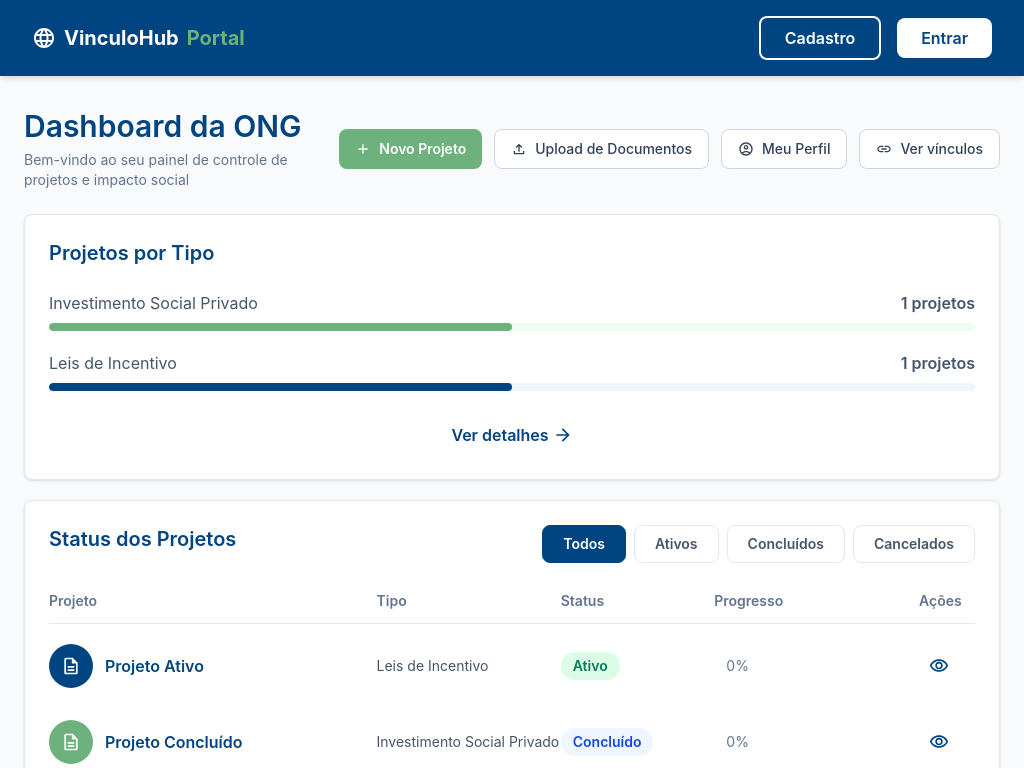
Test: RoleHomePage - dashboard da ONG › filtra projetos pelos status reais da aplicação
Check: the text "Projeto Ativo" is shown, box [105,654,204,676]
Click the button "Concluídos" at (786, 544), box [727,524,845,562]
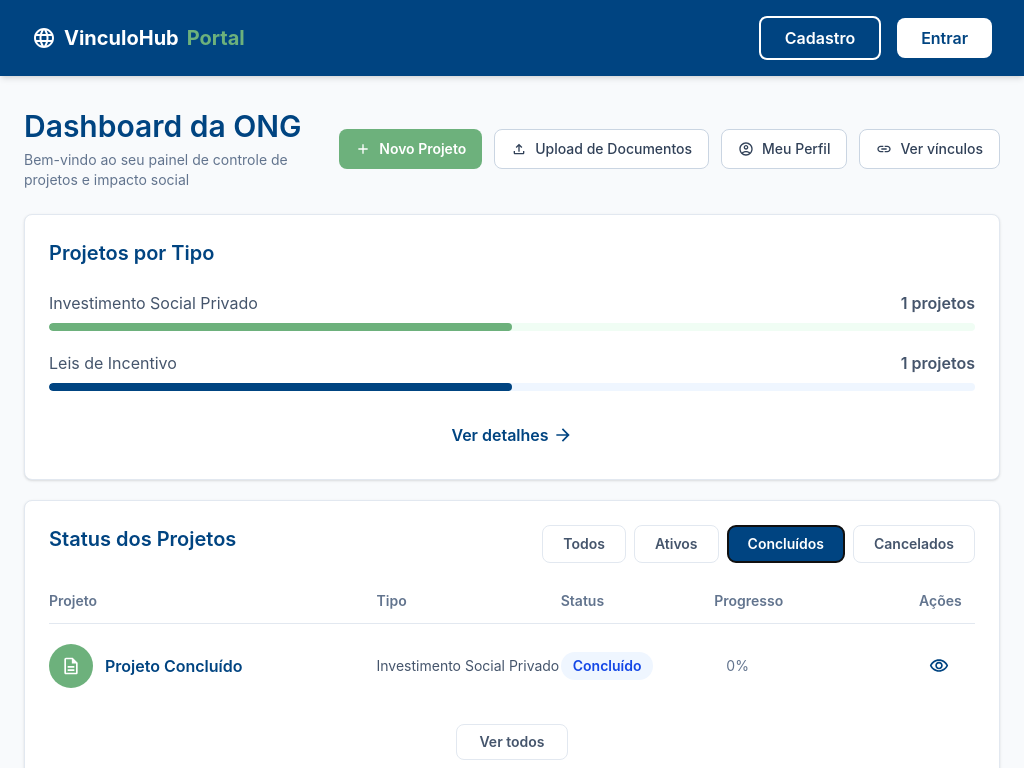
Check: the text "Projeto Concluído" is shown, box [105,654,242,676]
Check: the text "Projeto Ativo" is gone
